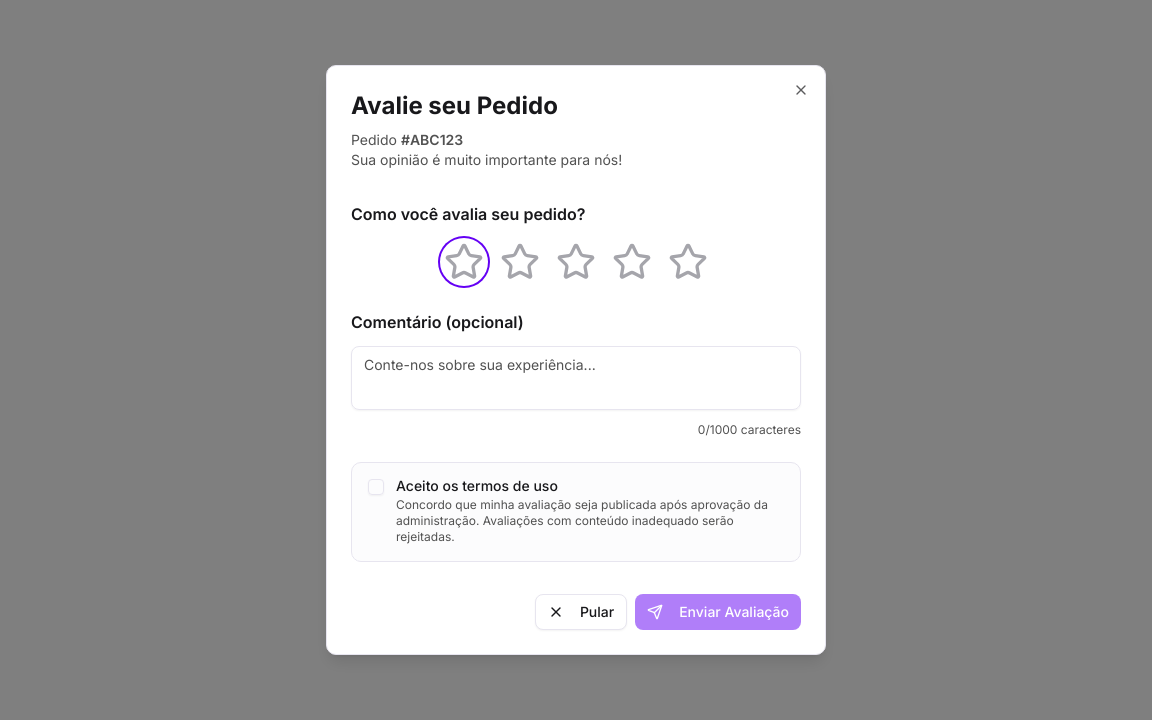
Test: ReviewModal › deve mostrar texto correto para cada rating
Click the 2nd button at (464, 262), box [440,238,488,286]
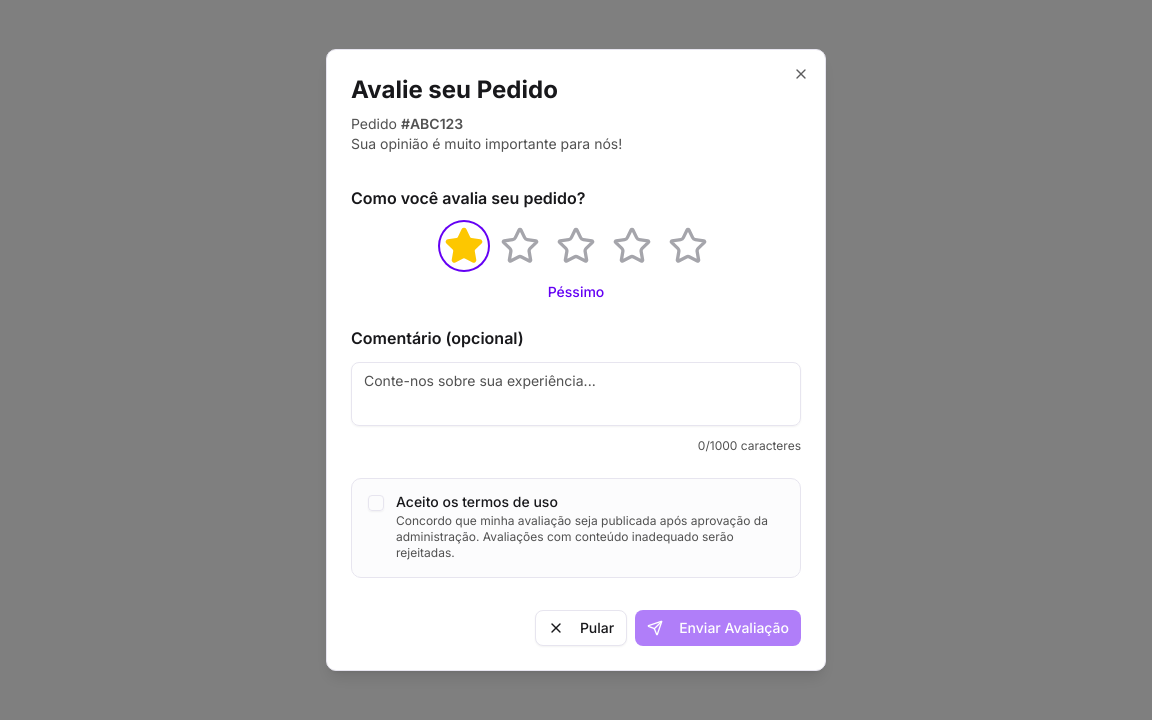
Expected: the text "Péssimo" is shown, [548,283,604,300]
Click the 3rd button at (520, 246), box [496,222,544,270]
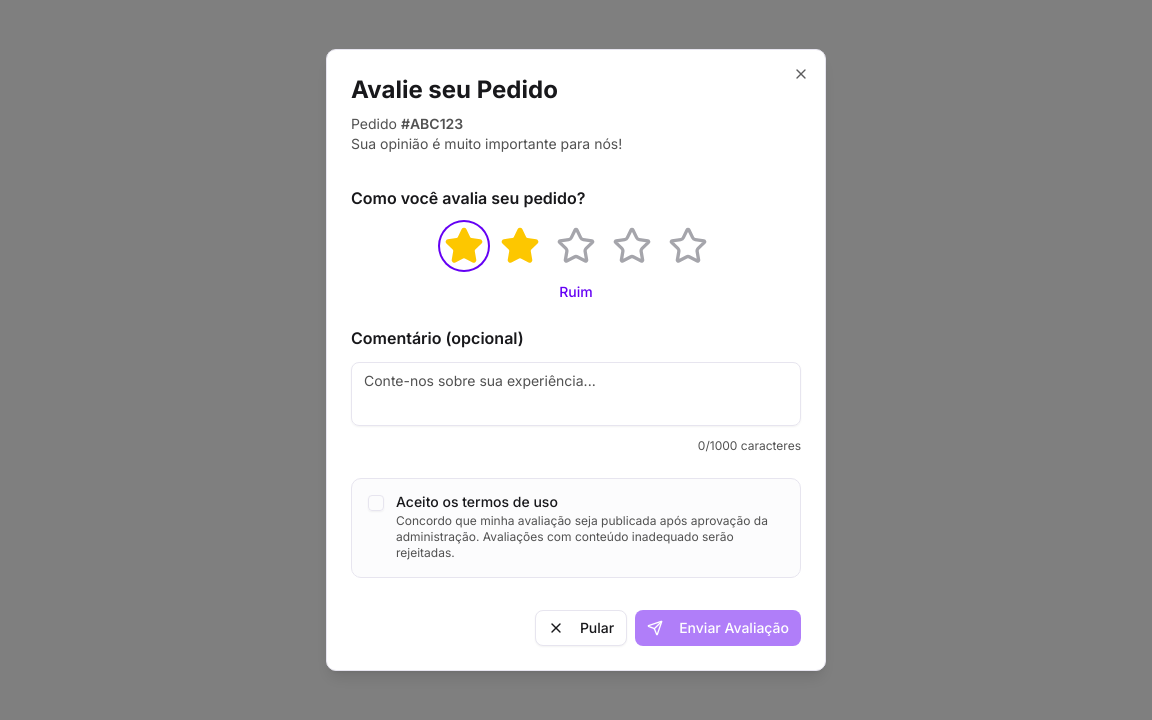
Expected: the text "Ruim" is shown, [559,283,593,300]
Click the 4th button at (576, 246), box [552,222,600,270]
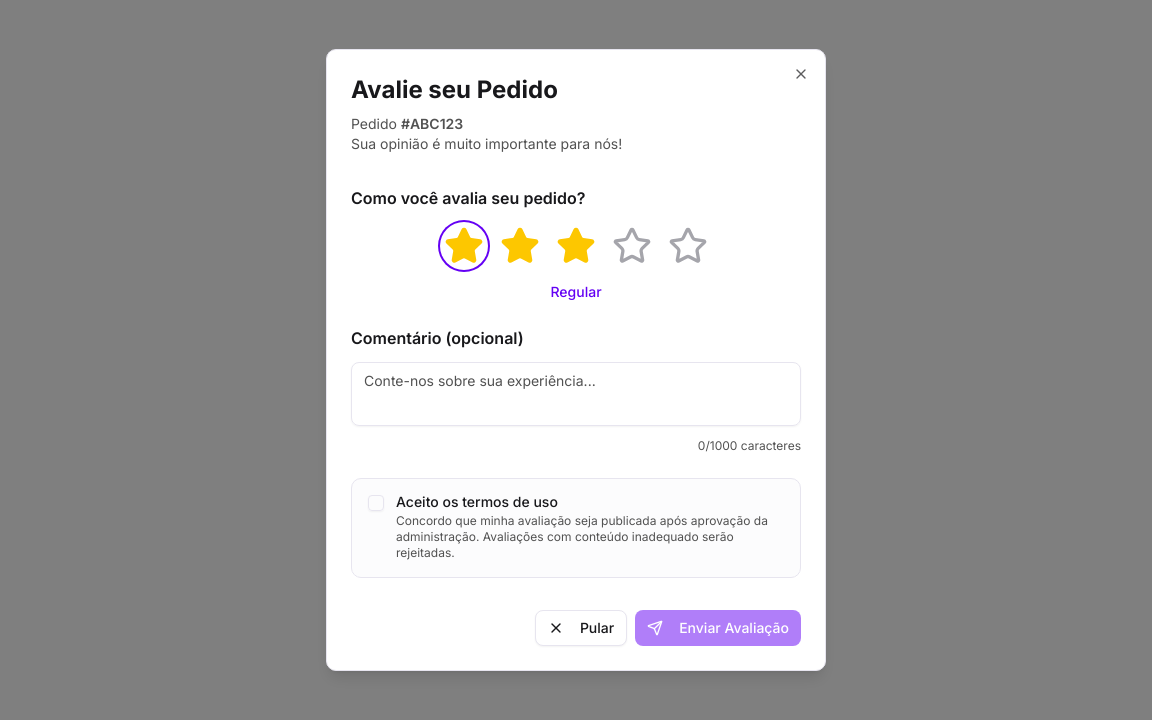
Expected: the text "Regular" is shown, [550,283,602,300]
Click the 5th button at (632, 246), box [608,222,656,270]
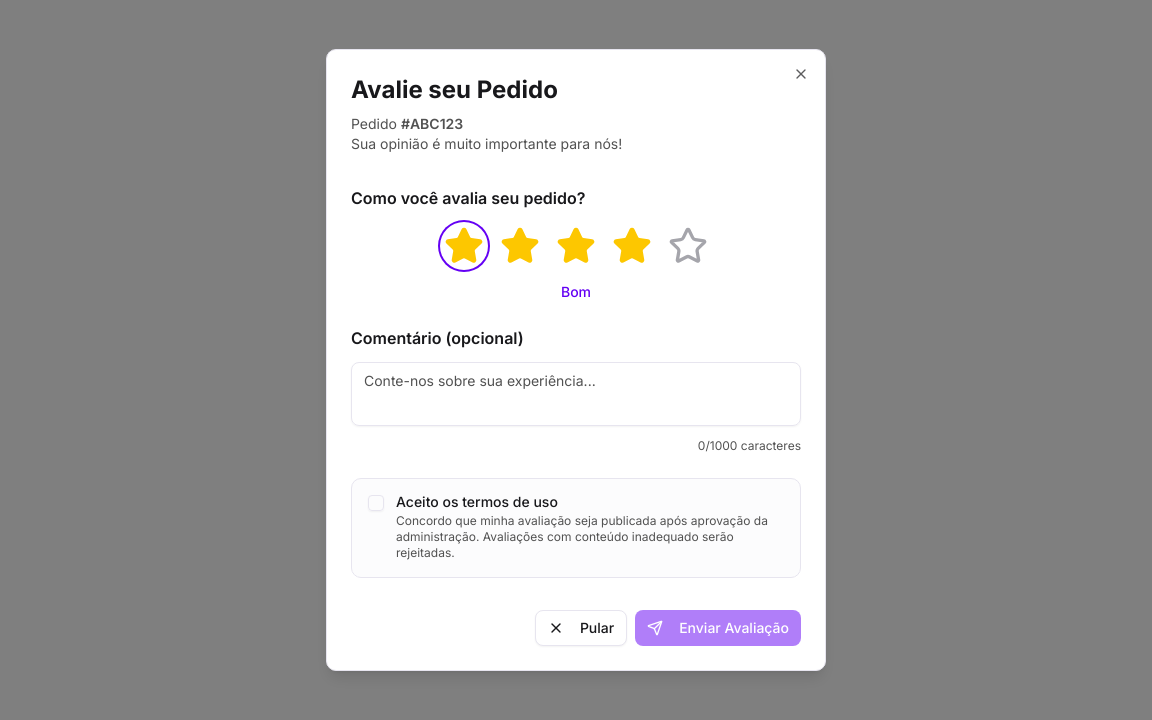
Expected: the text "Bom" is shown, [561,283,591,300]
Click the 6th button at (688, 246), box [664,222,712,270]
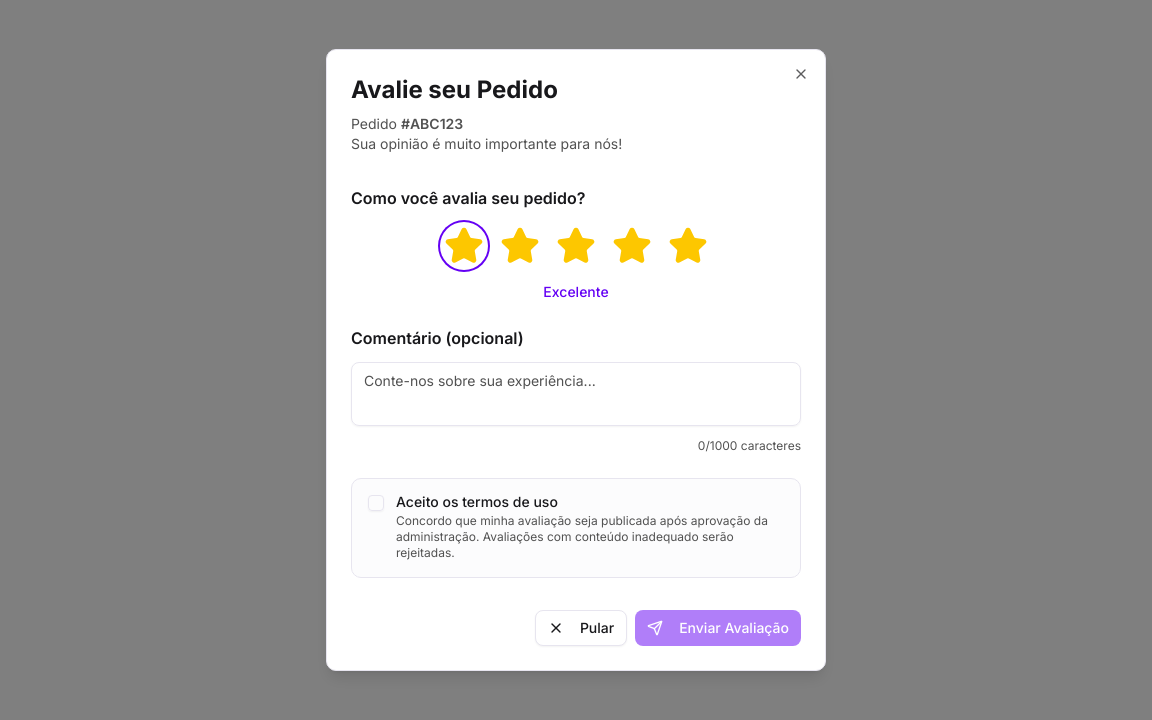
Expected: the text "Excelente" is shown, [543,283,609,300]
